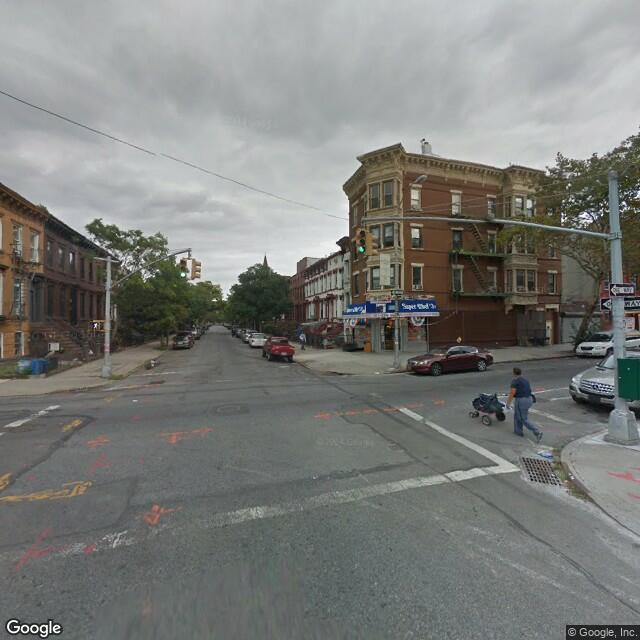litter: (537, 444, 557, 464)
